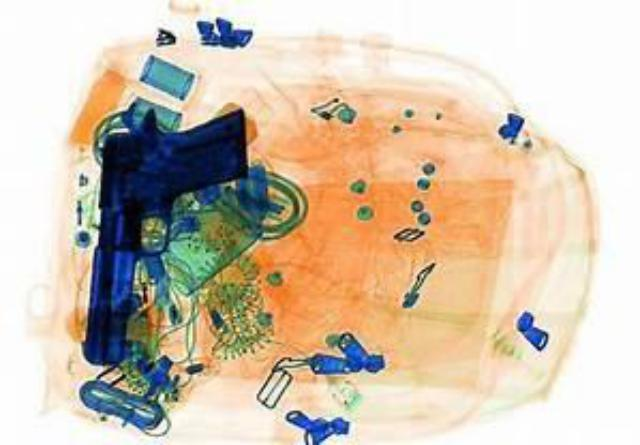Gun: (78, 101, 250, 364)
